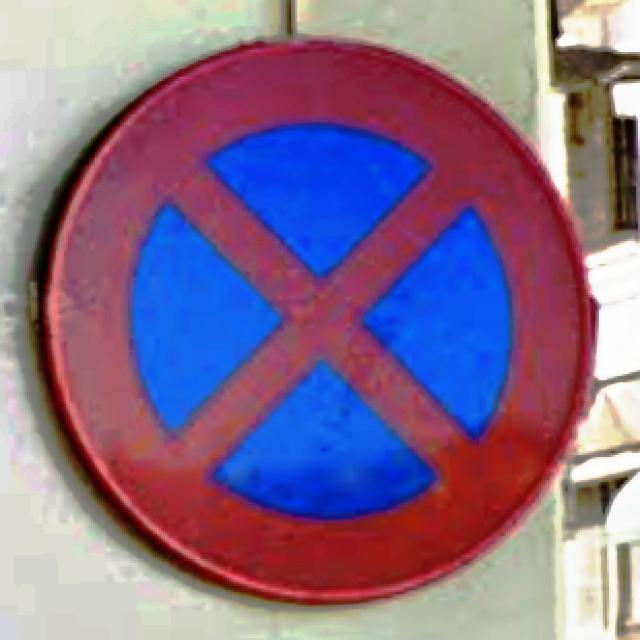nopark: (37, 37, 601, 611)
